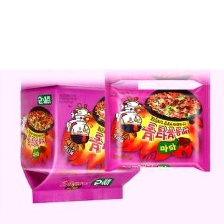snack: (14, 78, 144, 209), (95, 77, 216, 177)
